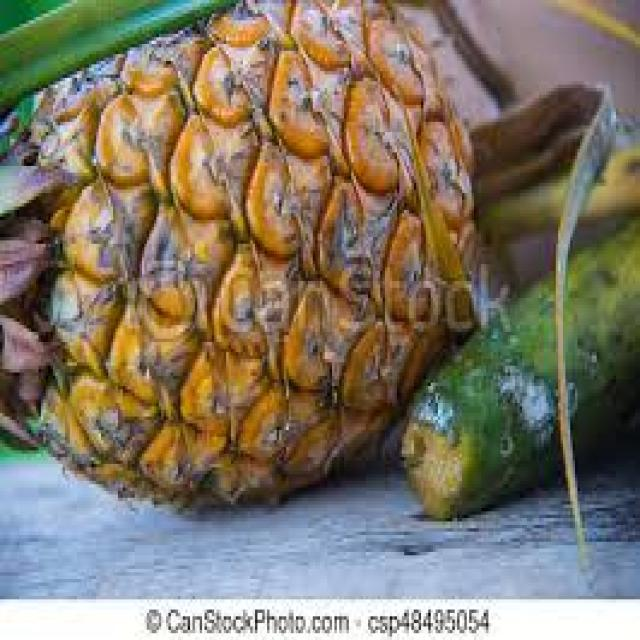biodegradable: (0, 0, 469, 501), (392, 200, 638, 518), (467, 75, 611, 583), (467, 136, 638, 224), (404, 3, 515, 105)
